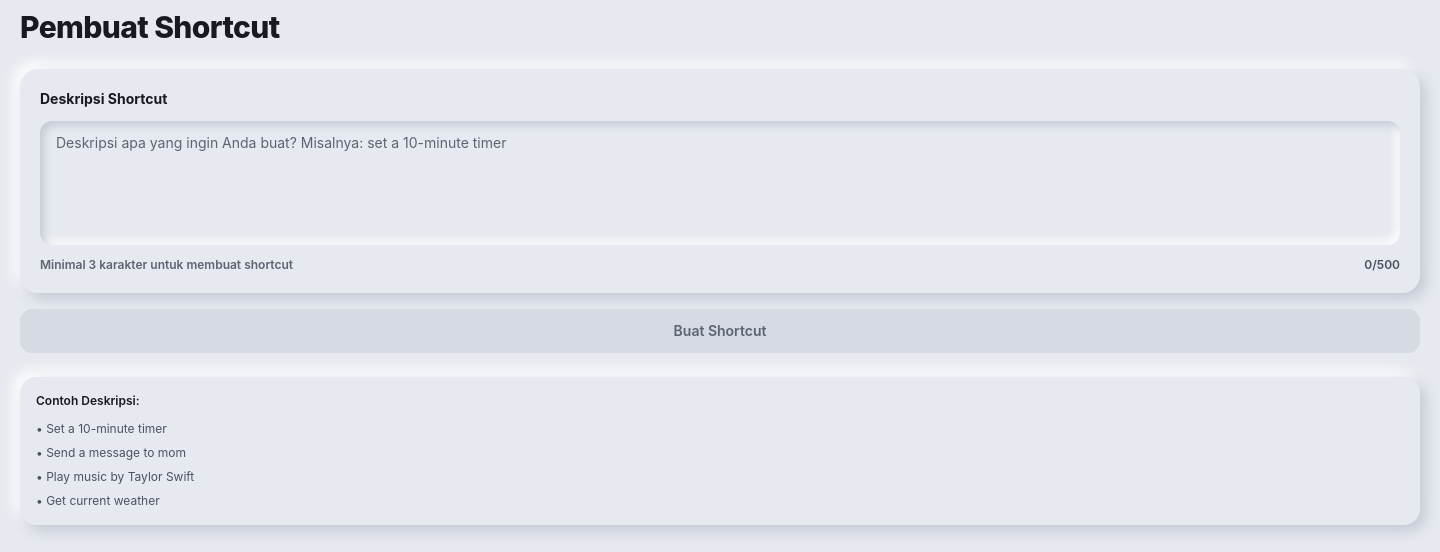
Test: ShortcutsScreen - E2E Frontend Tests › 10. Response Parsing and Download › displays character count in proper format
expect the text "0/500" is shown: met, box [1364, 257, 1400, 273]
In the text box with placeholder "Deskripsi apa": (720, 183) [40, 121, 1400, 245], type "hello"
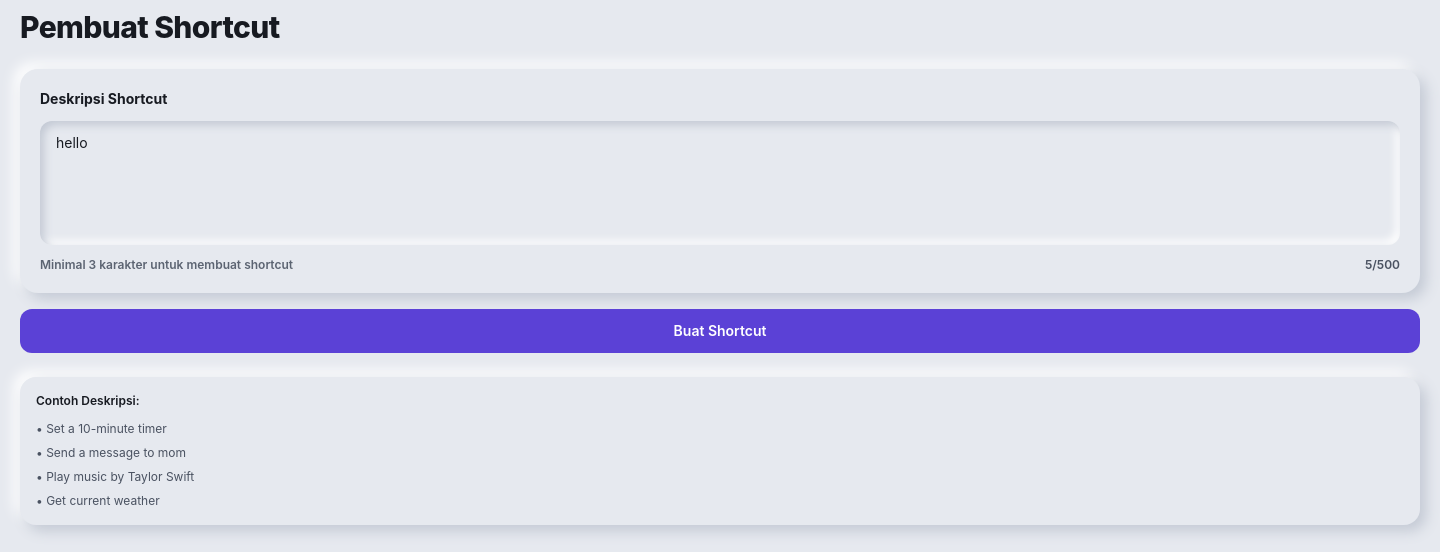
expect the text "5/500" is shown: met, box [1365, 257, 1400, 273]
